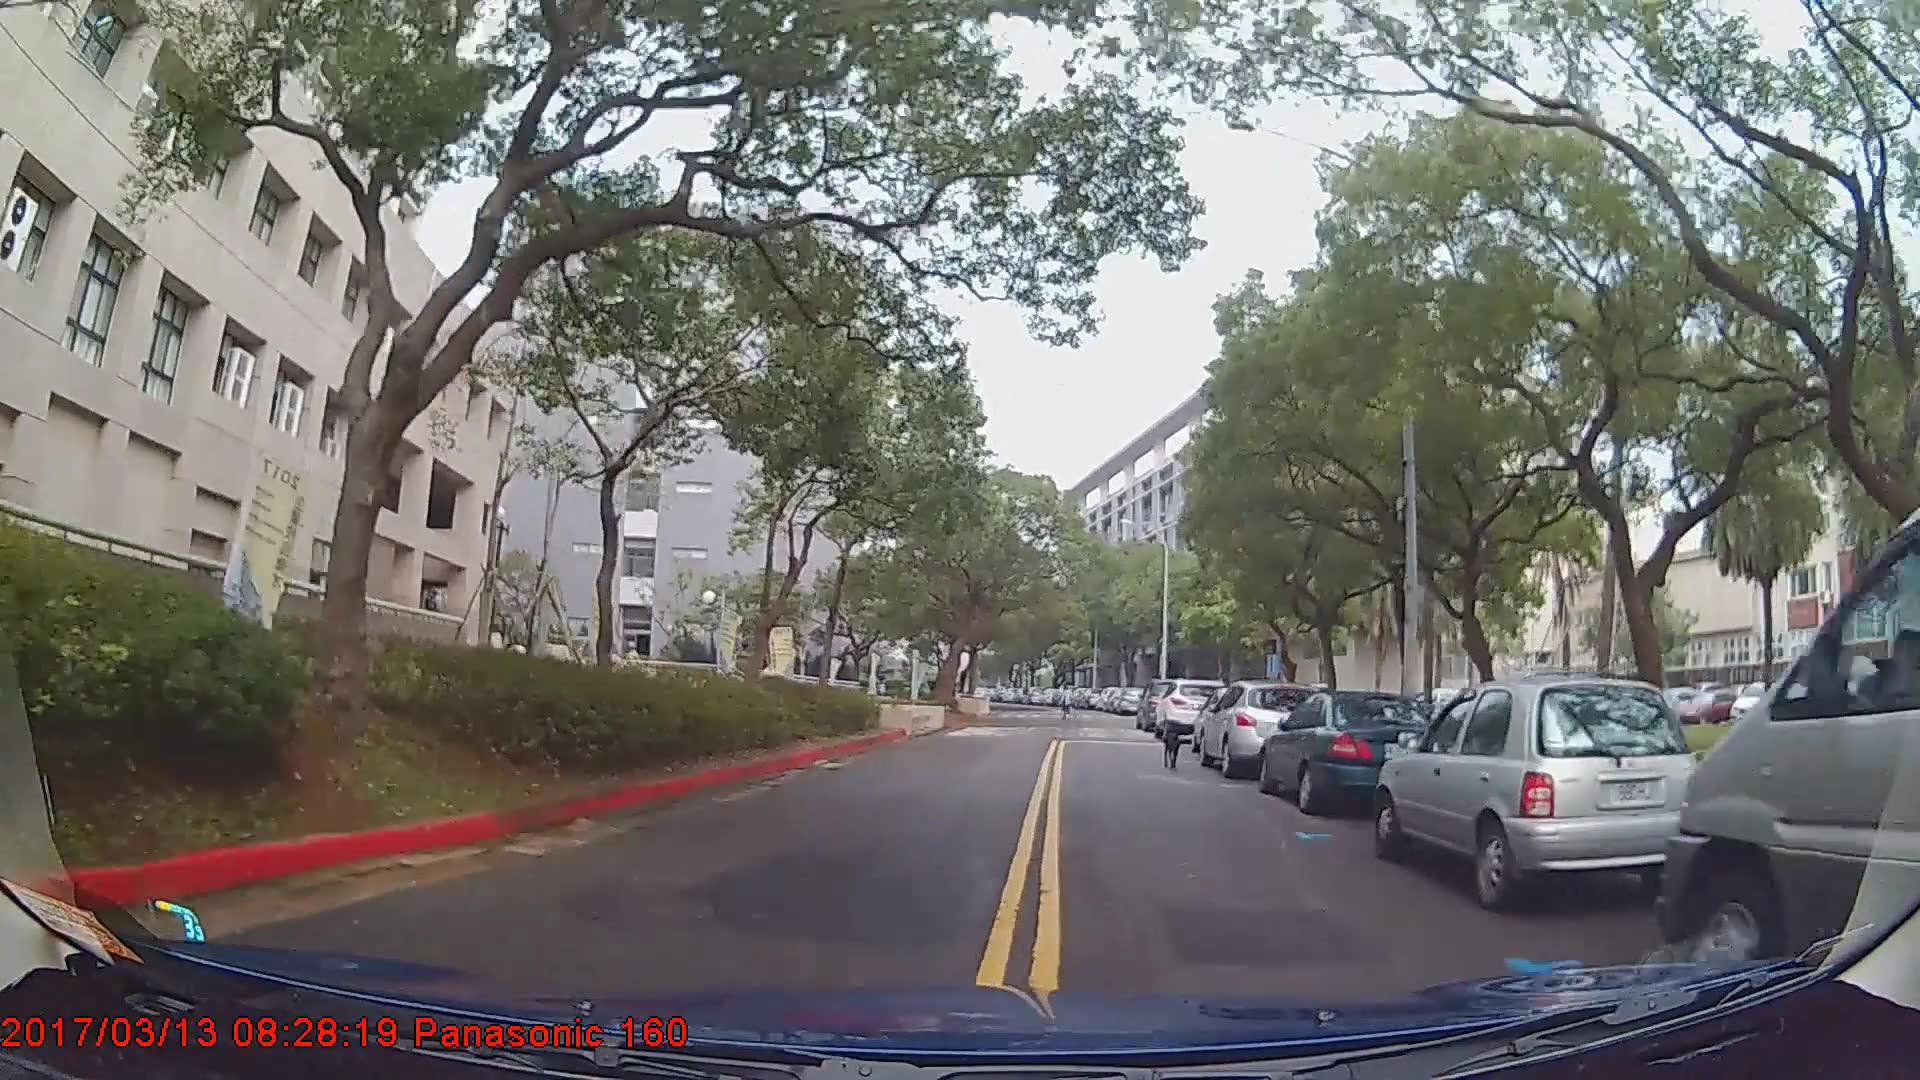pedestrian: (1060, 685, 1080, 723)
vehicle: (1660, 511, 1920, 1002), (1375, 673, 1701, 908), (1259, 689, 1455, 819), (1198, 677, 1323, 778), (1155, 678, 1230, 742)
